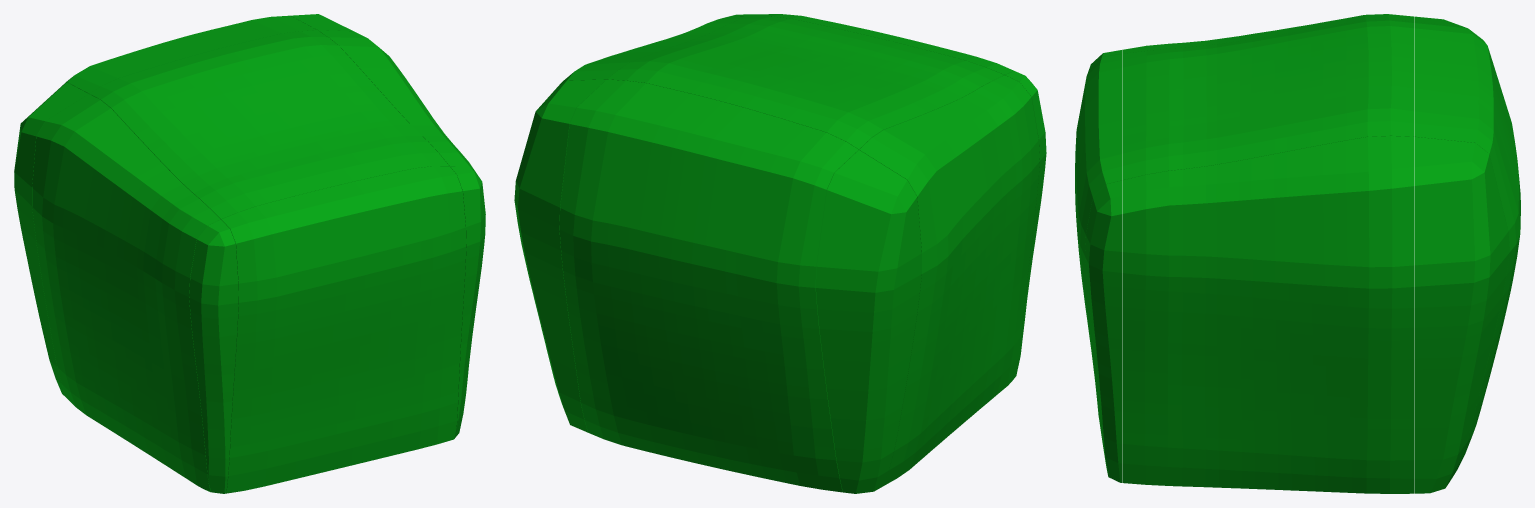
The model's file is 4by10beveledsubdivided.007.fbx.
The picture shows the model from 3 angles, left to right: view 1: azimuth 30°, elevation 25°; view 2: azimuth 150°, elevation 25°; view 3: azimuth 270°, elevation 25°; orthographic projection. The views are drawn at different scales.
Parts seen in each view (by area): view 1: 4by10beveledsubdivided.007; view 2: 4by10beveledsubdivided.007; view 3: 4by10beveledsubdivided.007.
Part boxes in pixels (x1,y1,x2,y2): 4by10beveledsubdivided.007: (14, 14, 485, 493); 4by10beveledsubdivided.007: (514, 14, 1046, 493); 4by10beveledsubdivided.007: (1075, 14, 1520, 493).
Bounding box in the file's own units: 310 × 265 × 305.
